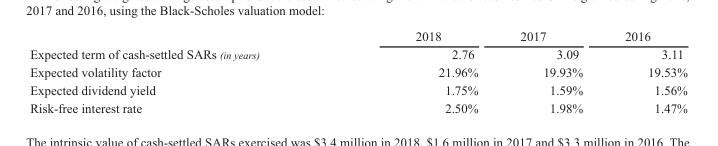table: (29, 28, 686, 115)
table column: (29, 28, 336, 115), (336, 28, 498, 115), (498, 28, 603, 115), (603, 28, 686, 115)
table column header: (29, 28, 686, 44)
table row: (29, 44, 686, 62), (29, 62, 686, 80), (29, 80, 686, 98), (29, 98, 686, 115), (29, 28, 686, 44)
